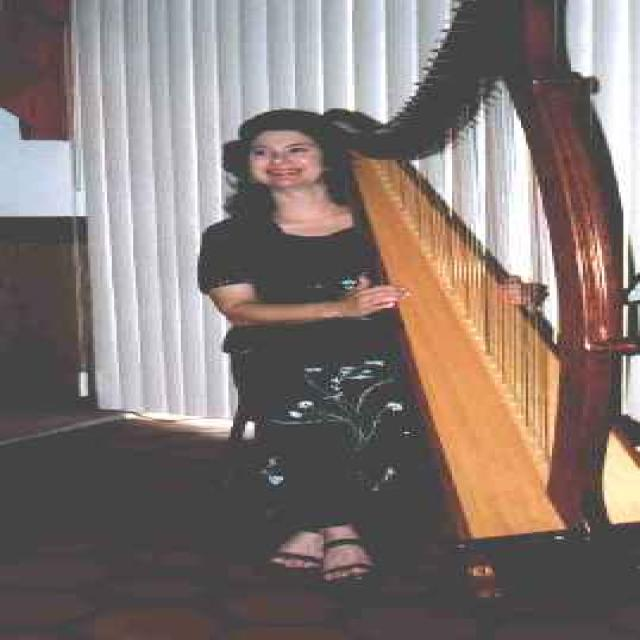harp: (323, 0, 640, 558)
